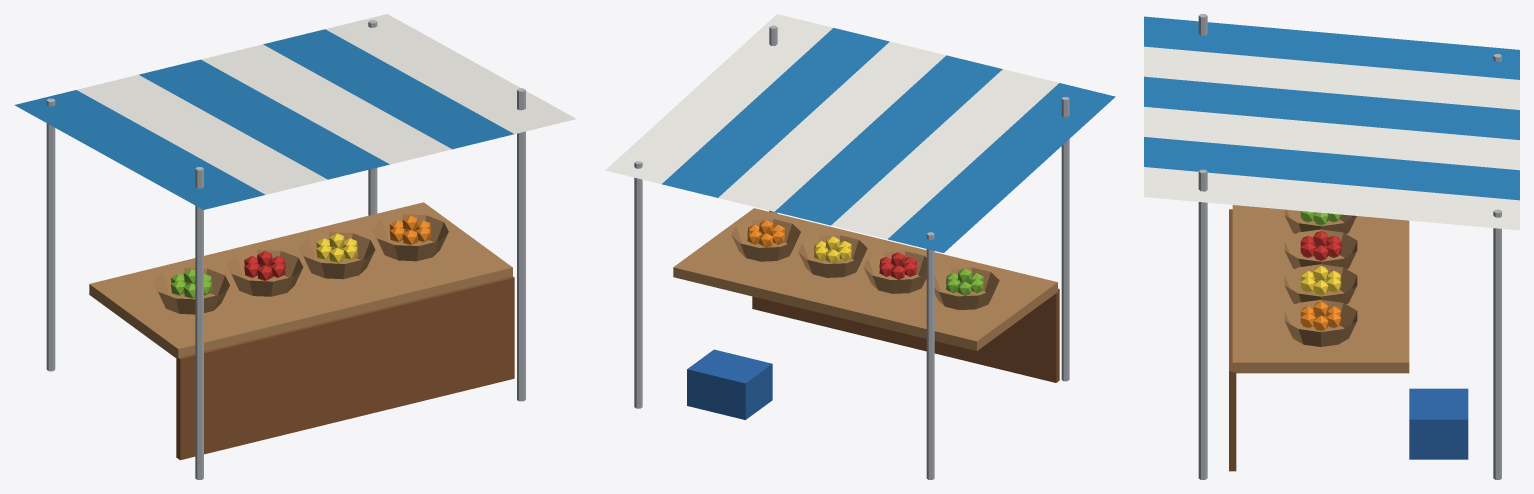
File: BLD_MarketStall_Blue.fbx
3 renders of one model, left to right at view 1: azimuth 30°, elevation 25°; view 2: azimuth 150°, elevation 25°; view 3: azimuth 270°, elevation 25°, orthographic. The views are drawn at different scales.
Parts seen in each view (by area): view 1: BLD_MarketStall_Blue; view 2: BLD_MarketStall_Blue; view 3: BLD_MarketStall_Blue.
Boxes of the visible parts, bbox=[...] form: BLD_MarketStall_Blue: bbox=[14, 14, 576, 479]; BLD_MarketStall_Blue: bbox=[605, 14, 1115, 479]; BLD_MarketStall_Blue: bbox=[1144, 14, 1519, 479].
Size of the model in its own units: 2.9 by 2.3 by 2.55.
